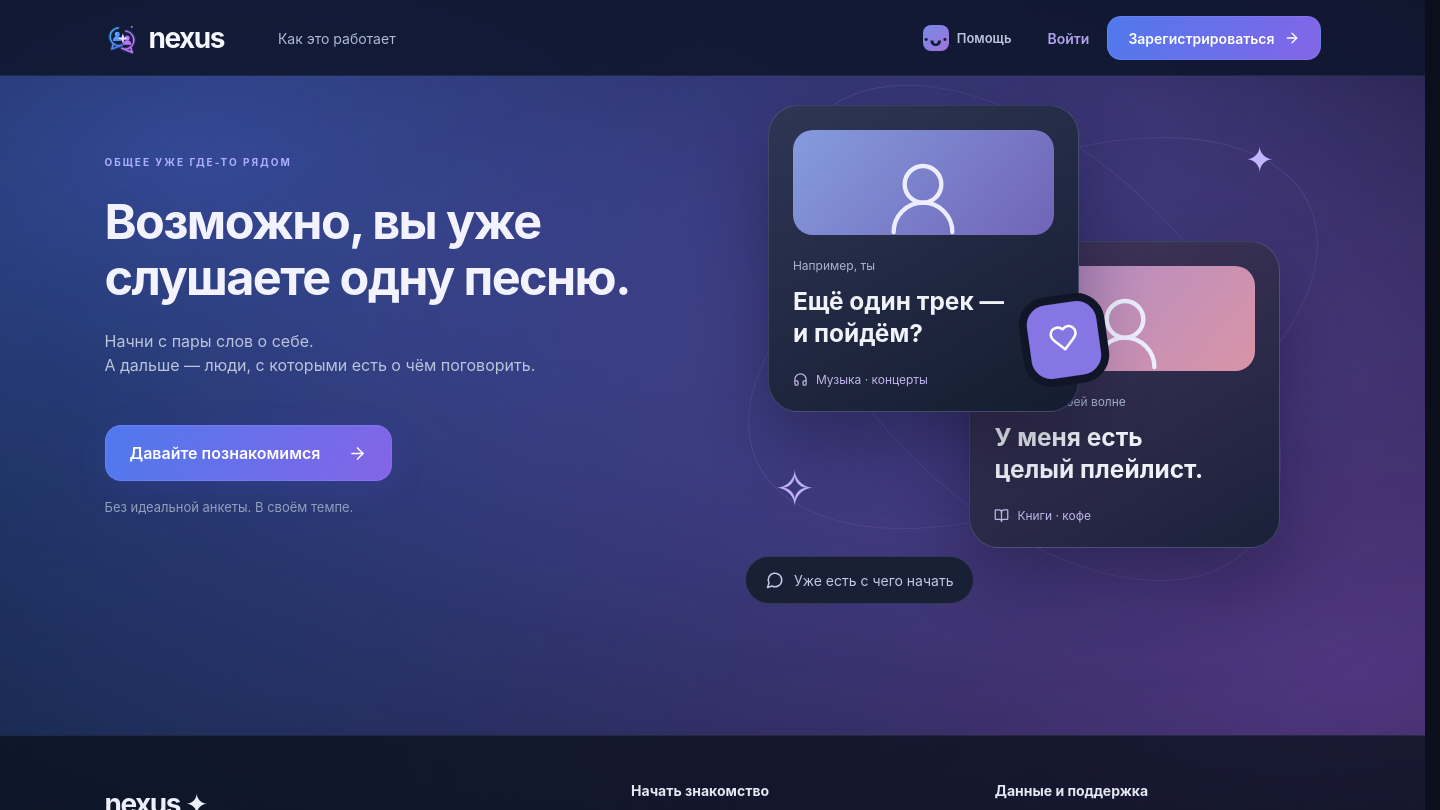
Scenario: Nexus user flows › Давайте познакомимся opens sign-in first and allows switching to signup and back
(page scrolled)
Click the button "Давайте познакомимся": (248, 453) [104,425,392,481]
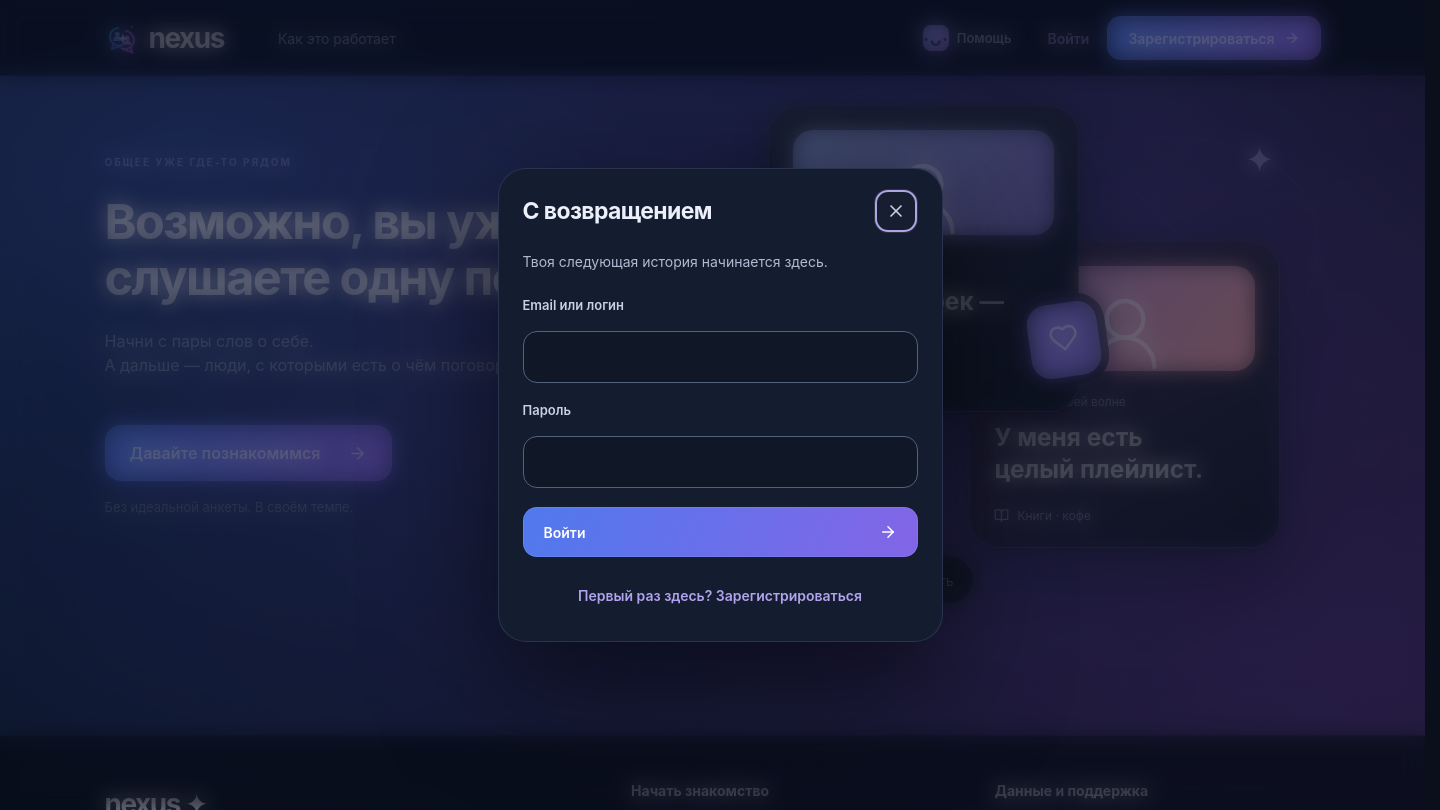
Expected: the field labelled "Повтори пароль" is not shown
Expected: the dialog "С возвращением" is shown, [498,168,942,642]
Expected: the field labelled "Email или логин" is shown, [522,331,918,383]
Click the button "Первый раз здесь? Зарегистрироваться": (720, 595) [522,573,918,617]
(page scrolled)
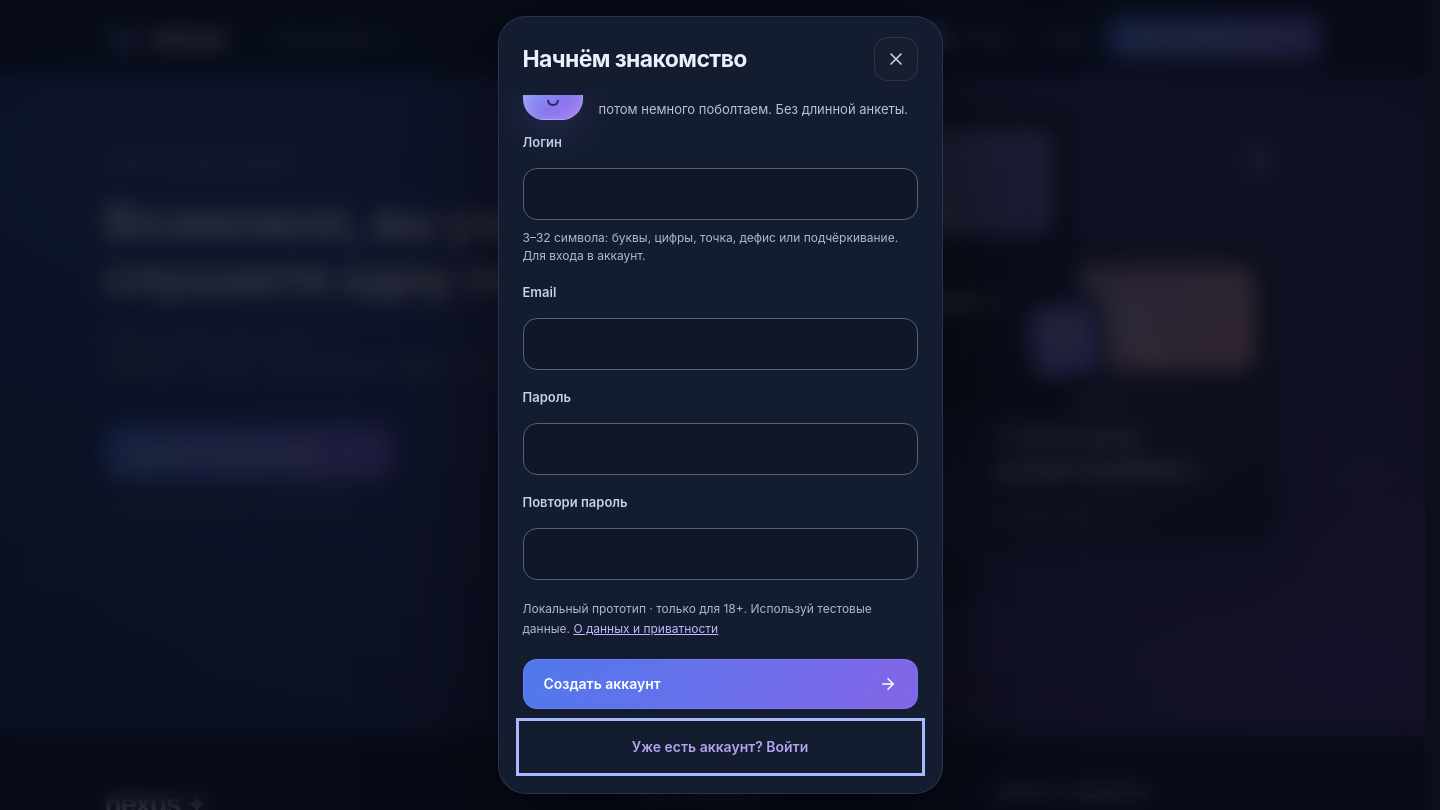
Expected: the dialog "Начнём знакомство" is shown, [498,16,942,794]
Expected: the password field labelled "Повтори пароль" is shown, [522,528,918,580]
Click the button "Уже есть аккаунт? Войти": (720, 747) [522,725,918,769]
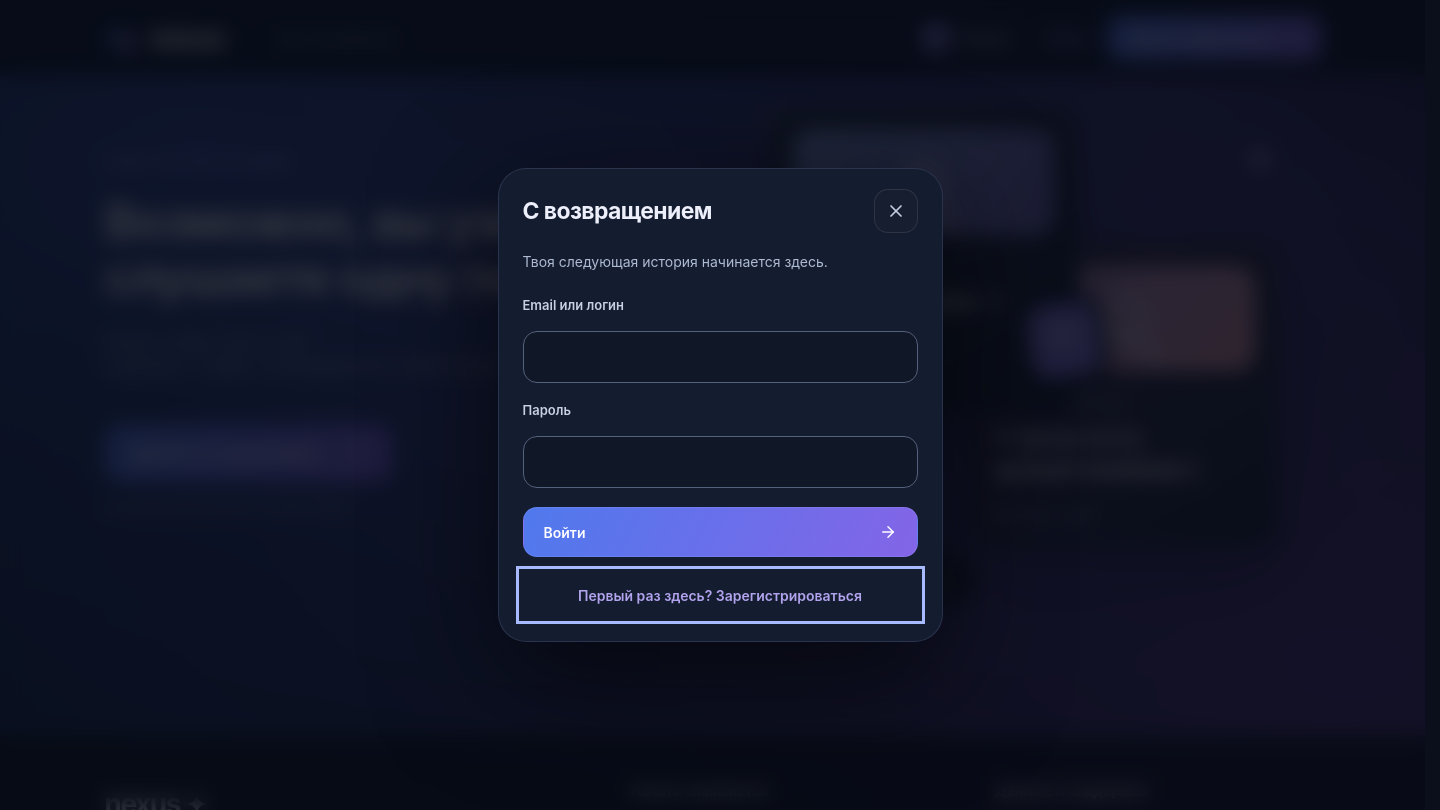
Expected: the dialog "С возвращением" is shown, [498,168,942,642]
